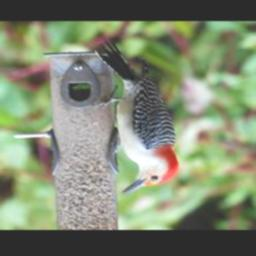Woodpecker: (90, 38, 179, 195)
